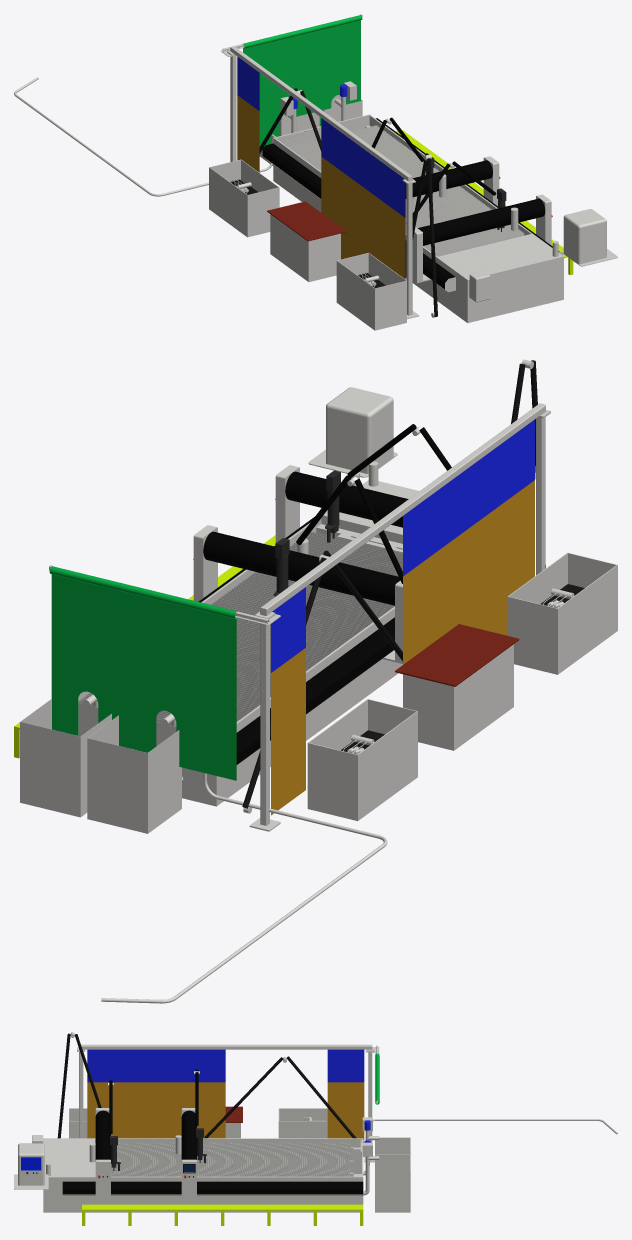
The picture shows the model from 3 angles, top to bottom: view 1: azimuth 30°, elevation 25°; view 2: azimuth 150°, elevation 25°; view 3: azimuth 270°, elevation 25°; orthographic projection. The views are drawn at different scales.
Visible parts, largest first — view 1: Catcher Tank, Main Splash Curtain, Y-Axis Splash Guard, Waterjet Cutting Table, Pump 1 Housing, Pump 3 Housing, Primary Gantry, Pump 2 Housing, Secondary Gantry, Pump 2 Top Cover, Waterjet Drain Hose, Step Platform; view 2: Main Splash Curtain, Catcher Tank, Y-Axis Splash Guard, Waterjet Cutting Table, Pump 3 Housing, Pump 1 Housing, Secondary Gantry, Pump 2 Housing, Primary Gantry, Pump 2 Top Cover, Waterjet Drain Hose; view 3: Catcher Tank, Main Splash Curtain, Waterjet Cutting Table, Step Platform, Secondary Gantry, Primary Gantry, Pump 3 Housing, Waterjet Drain Hose, Pump 1 Housing, Y-Axis Splash Guard.
Part boxes in pixels (x1,y1,x2,y2): Catcher Tank: [259, 81, 617, 323]; Main Splash Curtain: [227, 46, 419, 319]; Y-Axis Splash Guard: [221, 14, 362, 146]; Waterjet Cutting Table: [259, 88, 524, 317]; Pump 1 Housing: [336, 253, 406, 330]; Pump 3 Housing: [209, 159, 279, 237]; Primary Gantry: [406, 161, 552, 283]; Pump 2 Housing: [270, 214, 340, 281]; Secondary Gantry: [371, 117, 500, 205]; Pump 2 Top Cover: [267, 201, 346, 241]; Waterjet Drain Hose: [14, 77, 275, 196]; Step Platform: [396, 130, 573, 275]; Main Splash Curtain: [249, 403, 550, 831]; Catcher Tank: [20, 387, 419, 833]; Y-Axis Splash Guard: [49, 565, 280, 780]; Waterjet Cutting Table: [78, 359, 545, 813]; Pump 3 Housing: [307, 699, 417, 820]; Pump 1 Housing: [507, 552, 617, 674]; Secondary Gantry: [193, 475, 402, 663]; Pump 2 Housing: [403, 644, 513, 750]; Primary Gantry: [275, 424, 451, 542]; Pump 2 Top Cover: [395, 624, 519, 686]; Waterjet Drain Hose: [101, 773, 387, 1003]; Catcher Tank: [14, 1117, 410, 1212]; Main Splash Curtain: [77, 1044, 374, 1162]; Waterjet Cutting Table: [57, 1032, 370, 1176]; Step Platform: [82, 1204, 363, 1225]; Secondary Gantry: [181, 1069, 199, 1202]; Primary Gantry: [95, 1080, 113, 1202]; Pump 3 Housing: [278, 1108, 327, 1138]; Waterjet Drain Hose: [363, 1119, 617, 1165]; Pump 1 Housing: [69, 1108, 87, 1138]; Y-Axis Splash Guard: [365, 1045, 379, 1104].
Size of the model in its own units: 5.91 by 3.63 by 15.07.
